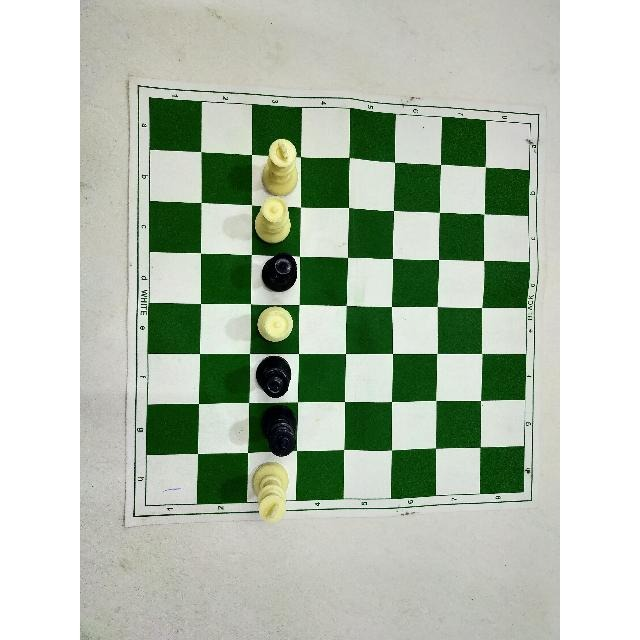black-king: (254, 408, 302, 461), (259, 406, 298, 458)
black-queen: (251, 351, 298, 403), (258, 251, 302, 293), (255, 354, 293, 402), (259, 250, 301, 292)
white-king: (242, 458, 291, 532), (255, 132, 305, 195), (258, 131, 302, 195), (246, 461, 288, 526)
white-queen: (248, 196, 297, 245), (252, 298, 300, 347), (250, 197, 296, 245), (253, 304, 296, 348)
